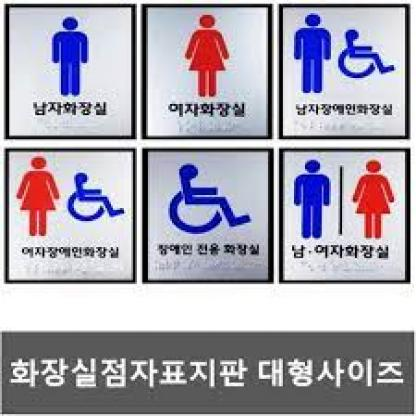toilet: (17, 153, 127, 239), (290, 12, 399, 96), (294, 157, 398, 240), (169, 163, 254, 236), (183, 13, 232, 97), (47, 15, 91, 98)
